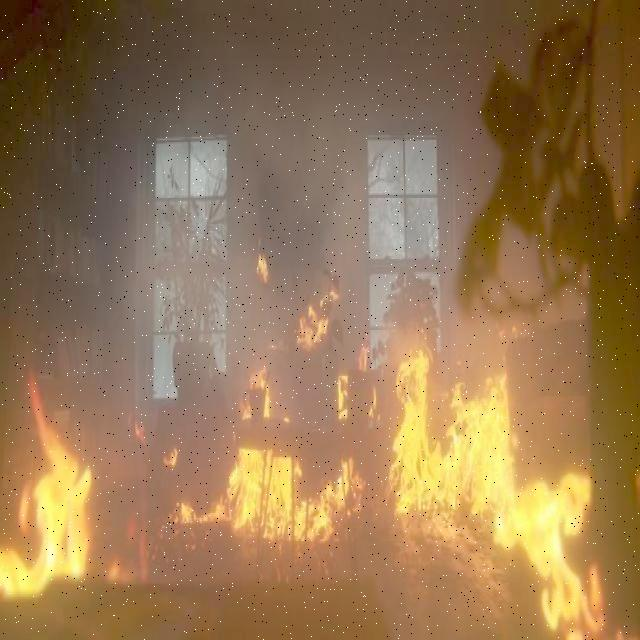fire: (0, 284, 640, 640)
smoke: (9, 8, 347, 266)
